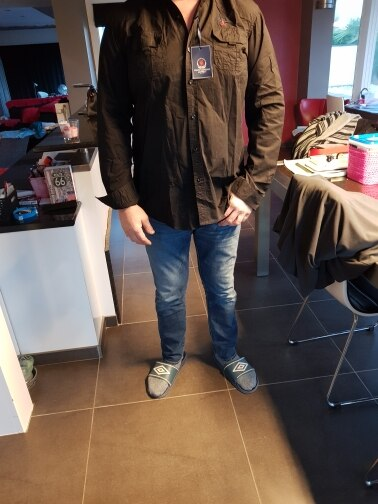shirts: (92, 3, 279, 220)
